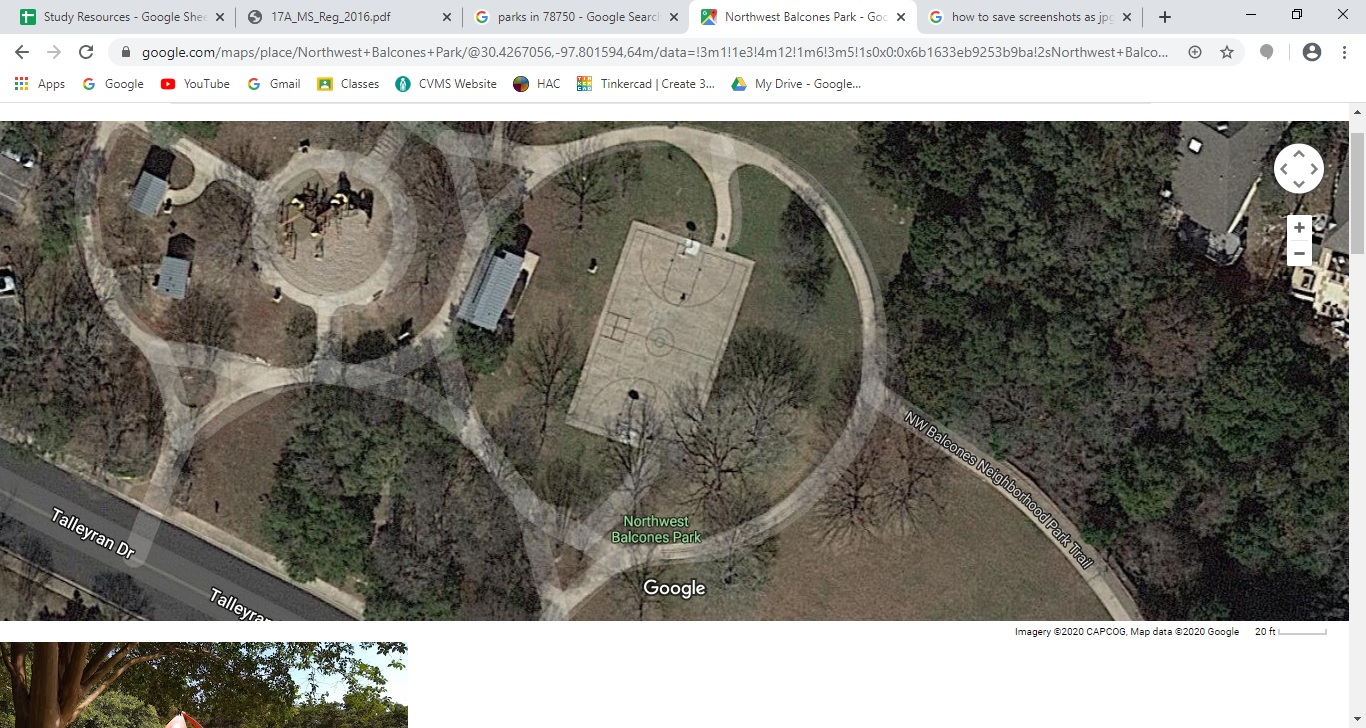basketball: (555, 204, 781, 491)
playscape: (234, 174, 441, 331)
